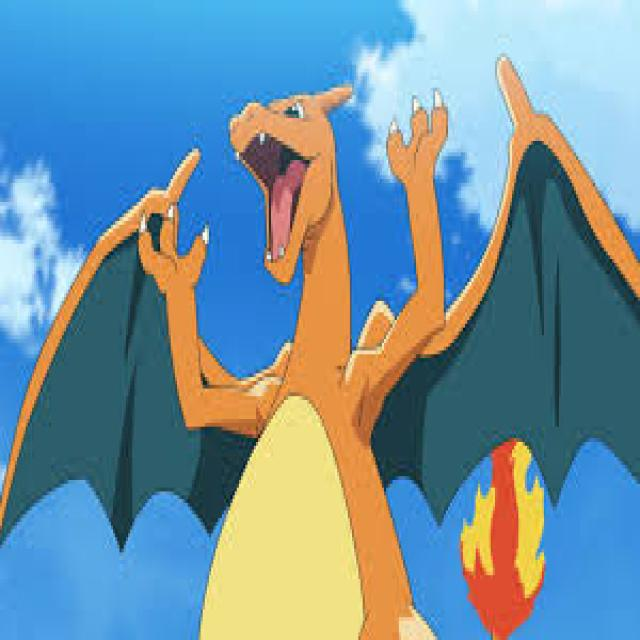charizard: (4, 53, 640, 640)
